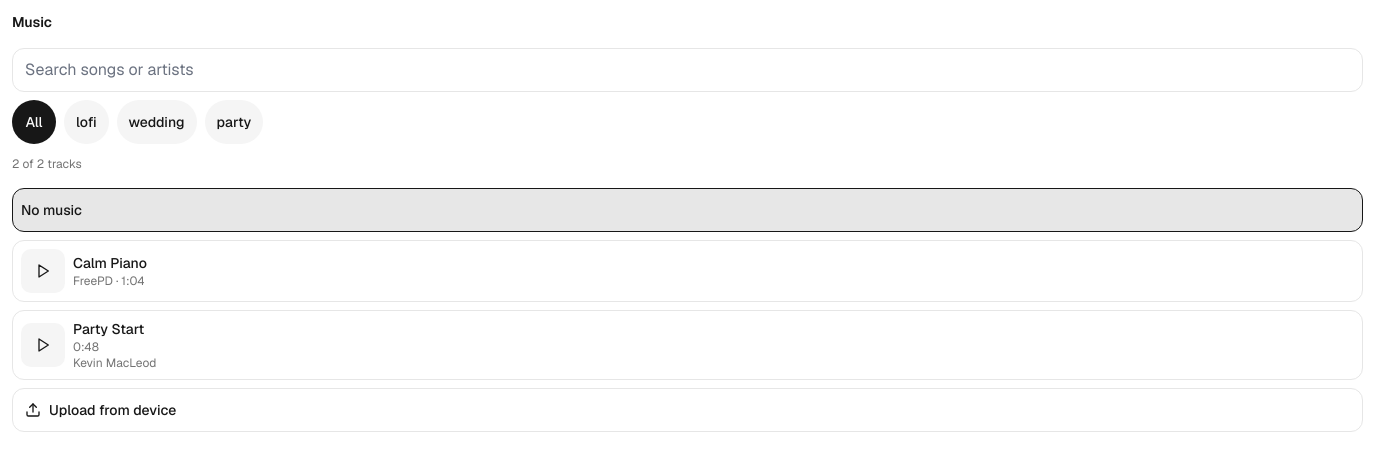
Test: MusicPicker › filters rows by mood chip combined with the query
This screenshot has width=1378, height=449.
Click the button "wedding". click: (157, 122)
box: 116,100 -> 197,144
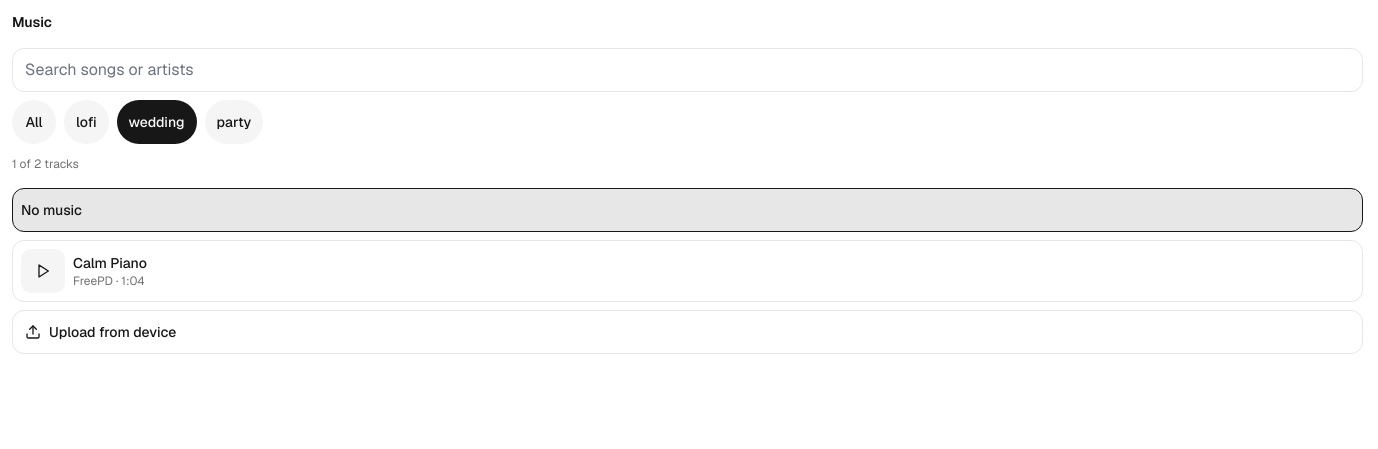
Check: the text "Calm Piano" is shown, box 73,254 -> 147,272
Check: the button "Party Start" is gone
Type "party" into the search field labelled "Search songs or artists". click: (688, 70)
box: 12,48 -> 1363,92
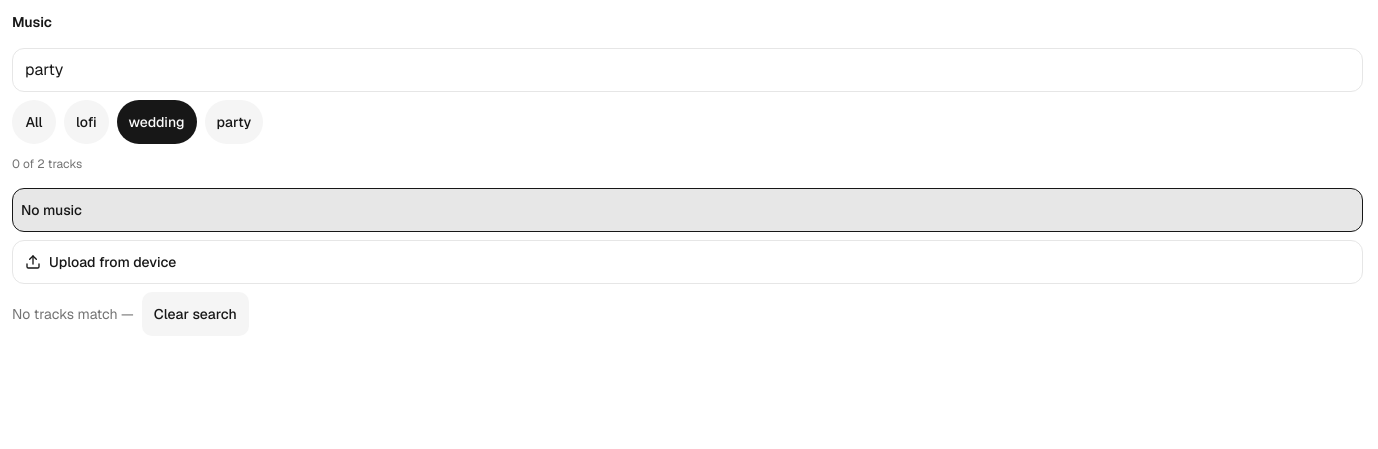
Check: the button "Calm Piano" is gone
Check: the text "No tracks match —" is shown, box 12,304 -> 134,324
